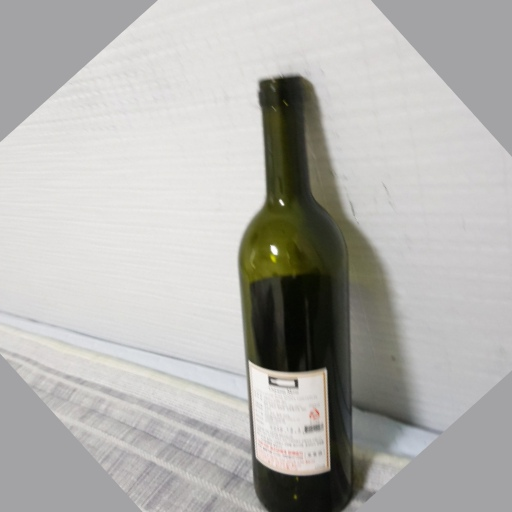Glass_2: (237, 72, 364, 512)
